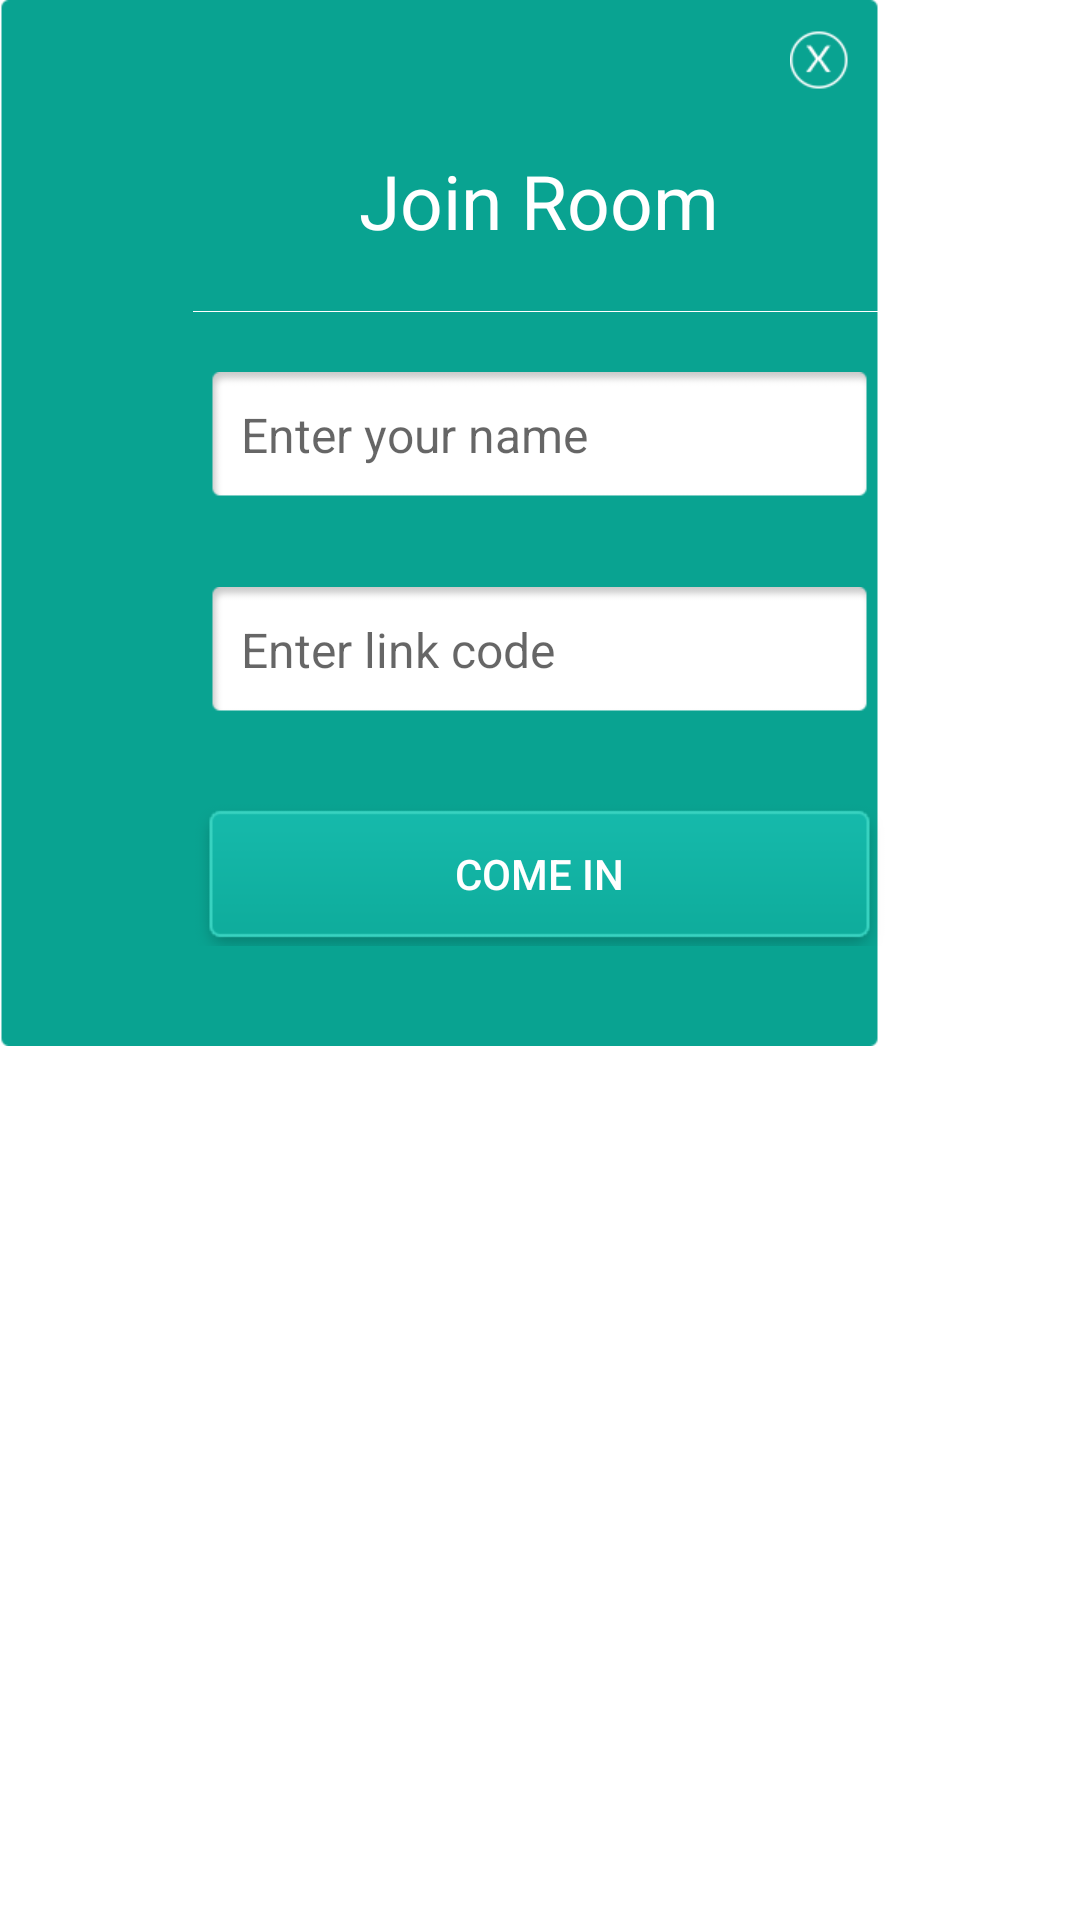

Named icons in this screenshot (1080x1920) and their bounding boxes, detection(x1, y1, x2, y2):
close: detection(790, 31, 848, 89)
